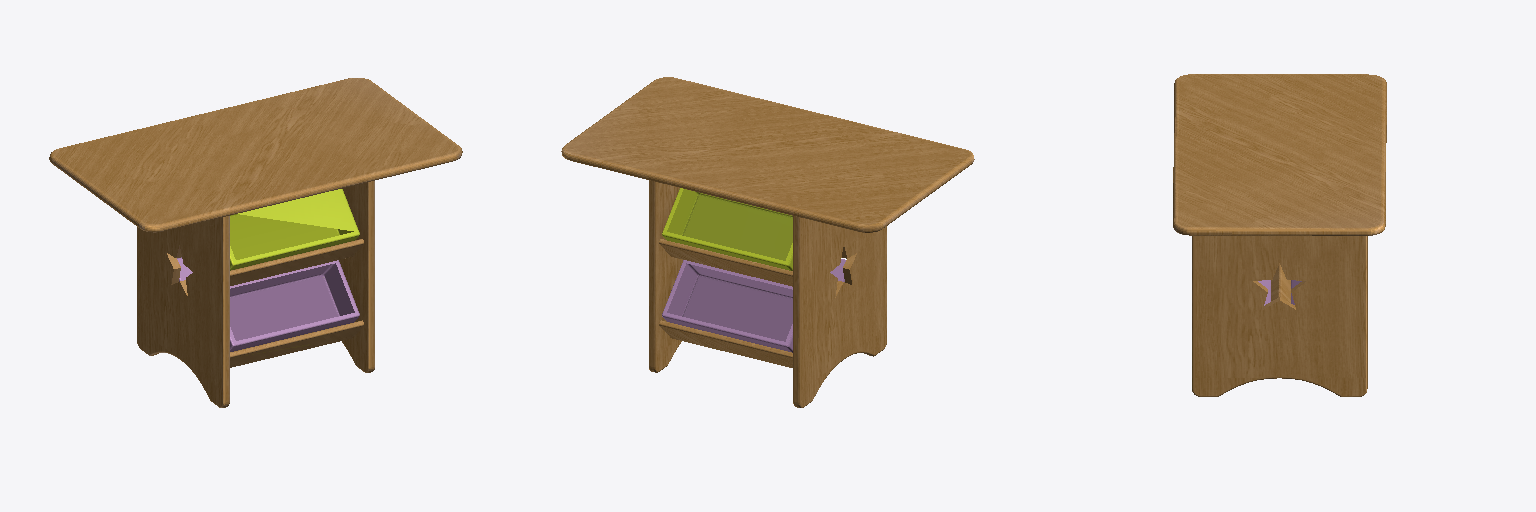
3 renders of one model, left to right at view 1: azimuth 30°, elevation 25°; view 2: azimuth 150°, elevation 25°; view 3: azimuth 270°, elevation 25°, orthographic.
Parts seen in each view (by area): view 1: solid_001, solid_003, solid_002; view 2: solid_001, solid_003, solid_002; view 3: solid_001.
Part boxes in pixels (bbox=[...]): solid_001: bbox=[49, 78, 462, 407]; solid_003: bbox=[177, 257, 359, 351]; solid_002: bbox=[230, 189, 359, 270]; solid_001: bbox=[561, 77, 974, 407]; solid_003: bbox=[662, 259, 845, 352]; solid_002: bbox=[662, 188, 792, 270]; solid_001: bbox=[1173, 74, 1386, 396].
Size of the model in its own units: 1.78 by 1.11 by 1.03.
1 materials, 1 textured.